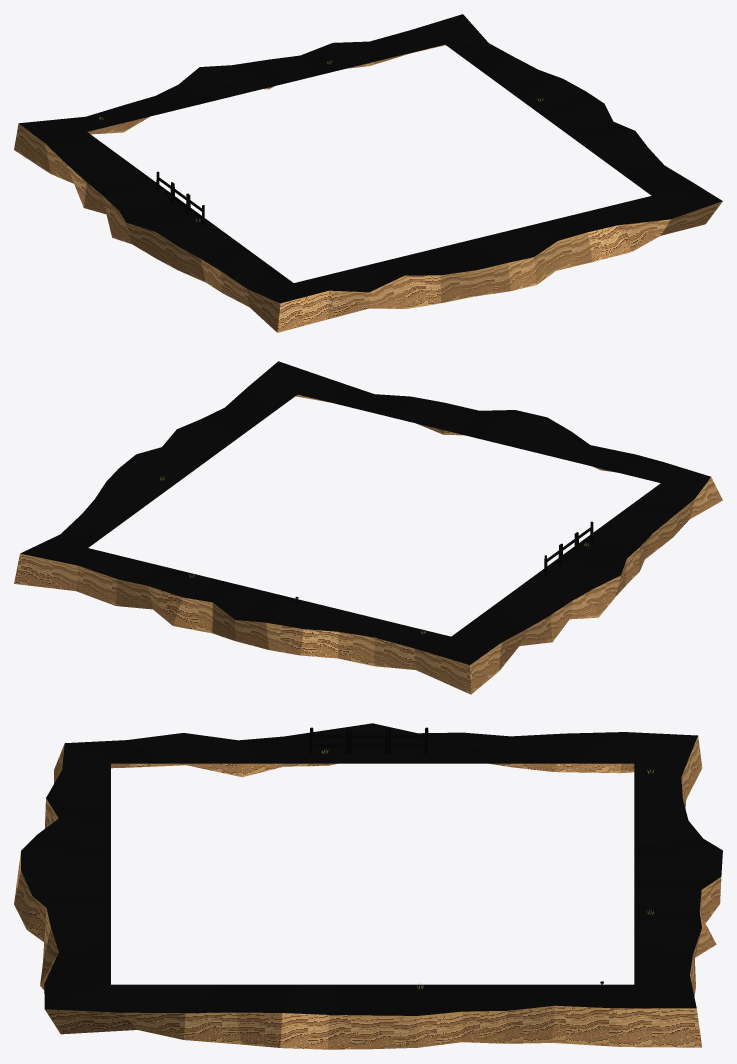
Rendered from entorno.fbx.
The picture shows the model from 3 angles, top to bottom: view 1: azimuth 30°, elevation 25°; view 2: azimuth 150°, elevation 25°; view 3: azimuth 270°, elevation 25°; orthographic projection. The views are drawn at different scales.
Visible parts, largest first — view 1: deserto_entorno; view 2: deserto_entorno; view 3: deserto_entorno.
Boxes of the visible parts, <box> form: deserto_entorno: <box>14,14,722,332</box>; deserto_entorno: <box>14,361,722,694</box>; deserto_entorno: <box>14,723,722,1049</box>.
Size of the model in its own units: 1631 by 169 by 1652.
